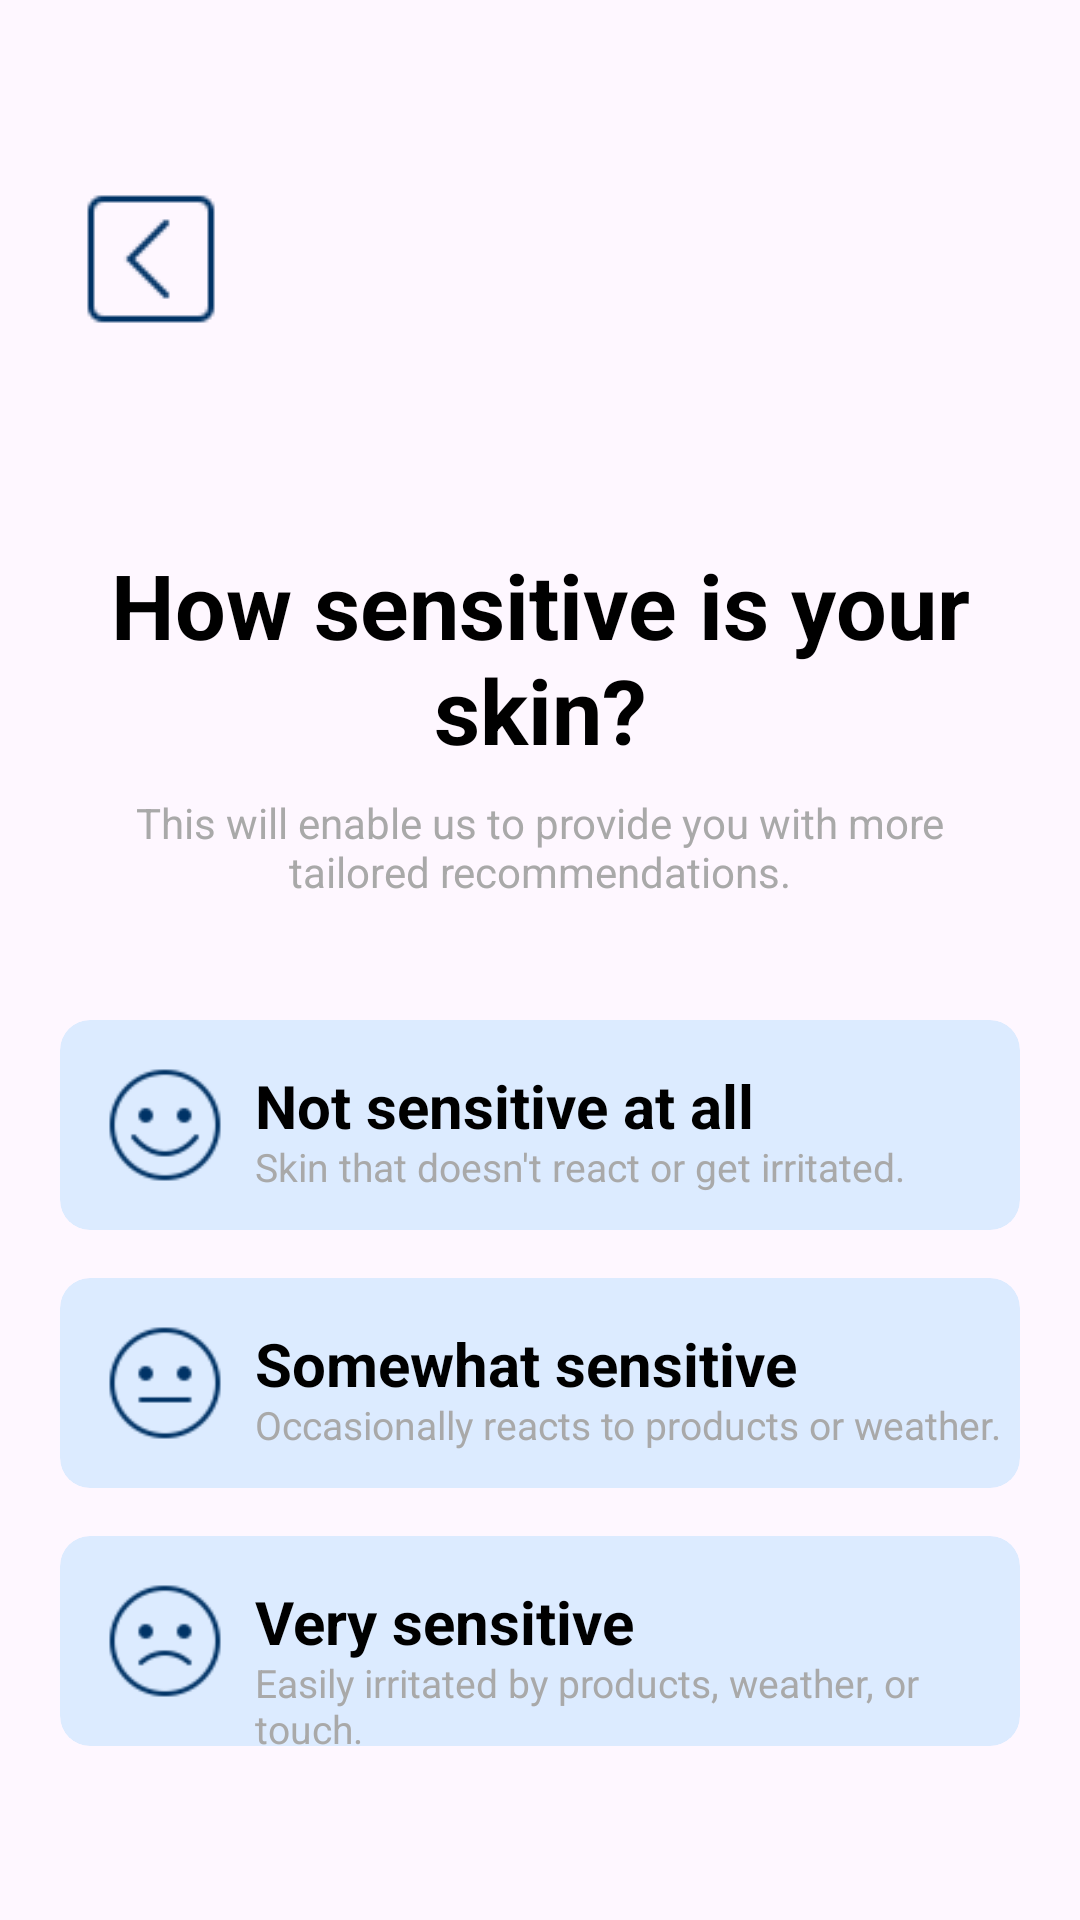

Icon click points for this 1080 x 1920 phone screenshot, format [x,y]:
back button: [151,259]
neutral: [165,1383]
sad: [165,1641]
smiley: [165,1125]
